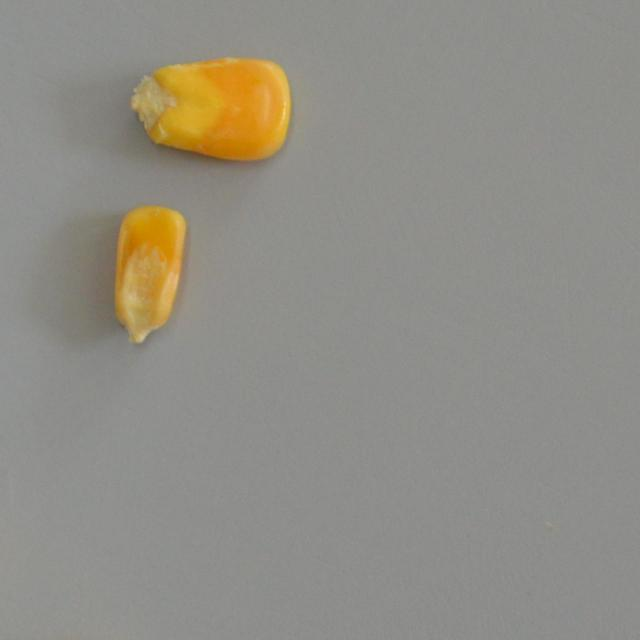entero: (126, 52, 295, 161), (112, 204, 187, 344)
